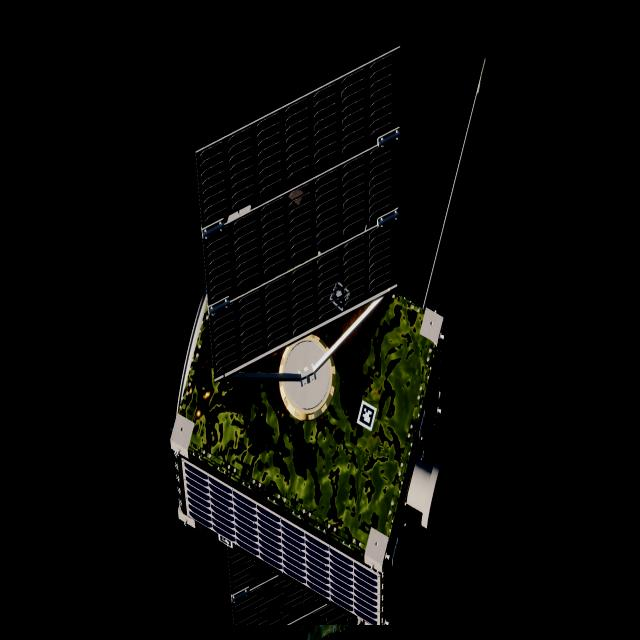satellite: (170, 46, 444, 628)
